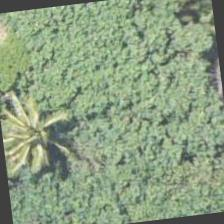Kelapa_Sawit: (0, 78, 78, 177)
